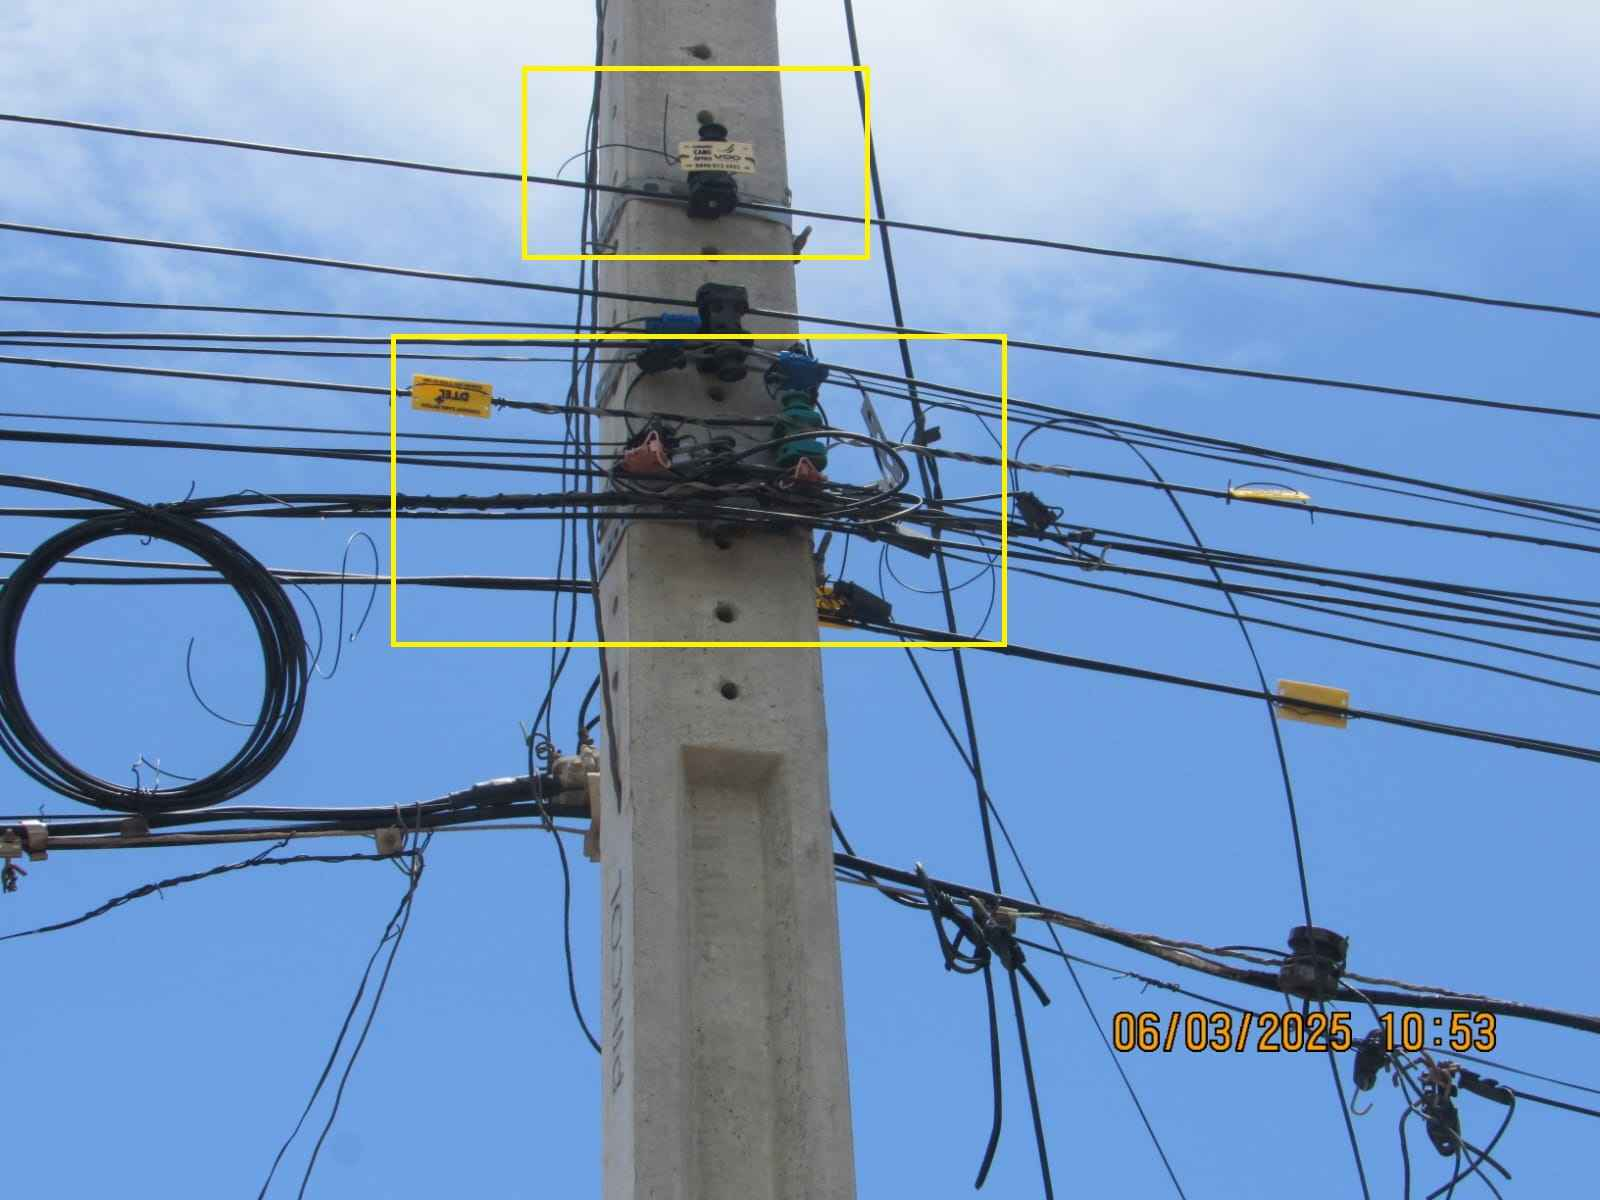coaxial: (929, 855, 1351, 1038), (368, 716, 609, 892)
drop: (1355, 1005, 1534, 1177), (971, 463, 1105, 570), (797, 540, 897, 651), (628, 287, 720, 392), (607, 396, 697, 486)
fibra_optica: (1260, 671, 1357, 740), (408, 366, 500, 424), (1216, 468, 1319, 517), (681, 135, 754, 181)
nivel_fixacao1: (596, 2, 856, 1200), (22, 742, 631, 903)
nivel_fixacao2: (0, 546, 605, 611)
nivel_fixacao3: (18, 454, 762, 523)
tronco_metalico: (5, 424, 303, 825)
